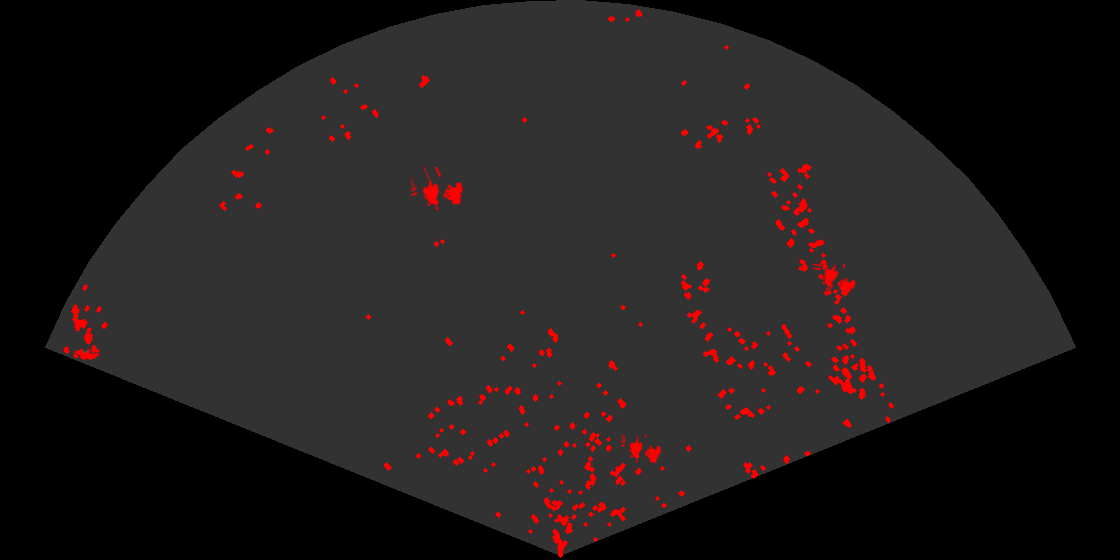AUV: (75, 347, 100, 360)
cage: (411, 167, 465, 212), (813, 264, 858, 298), (621, 435, 663, 465)
